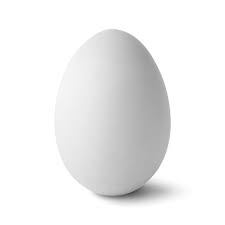eggs: (53, 27, 173, 194)
